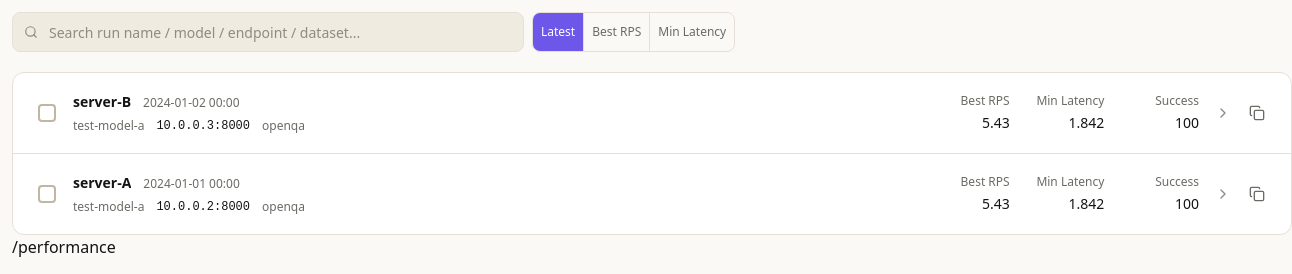
Test: PerfReportsPage › searches runs by alias and endpoint host
In the field with placeholder "Search run name / model / endpoint / dataset...": x=268, y=32 [12, 12, 524, 52], type "10.0.0.3"
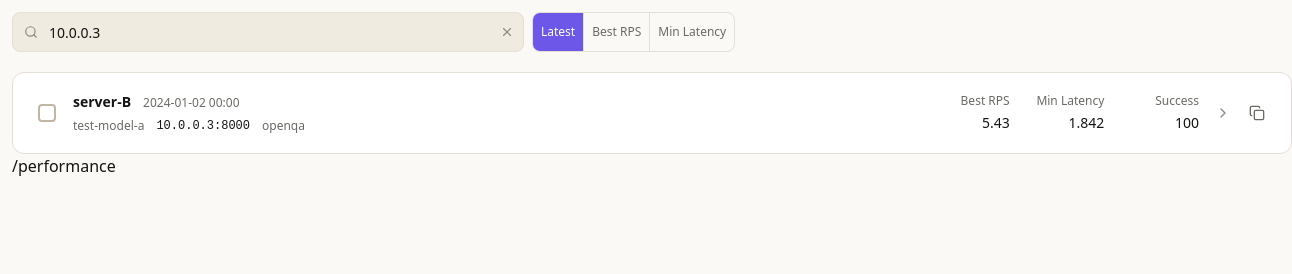
Check: the text "server-B" is shown, box [73, 92, 131, 112]
Check: the button "server-A" is gone
Replace the text in the field with placeholder "Search run name / model / endpoint / dataset..." with "server-a": x=268, y=32 [12, 12, 524, 52]
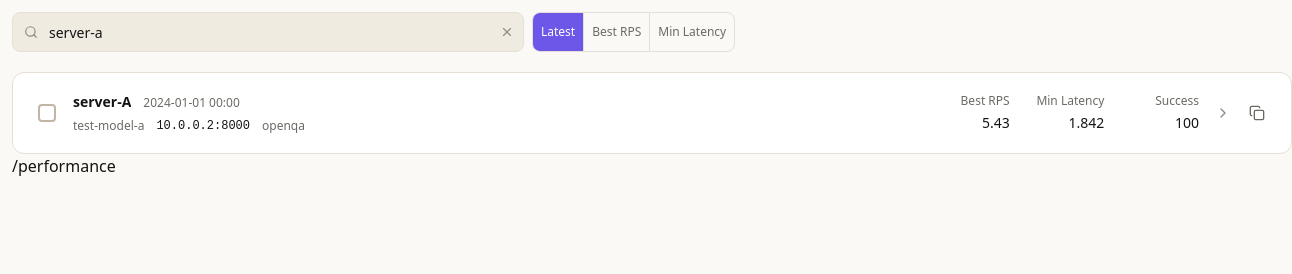
Check: the text "server-A" is shown, box [73, 92, 131, 112]
Check: the button "server-B" is gone
